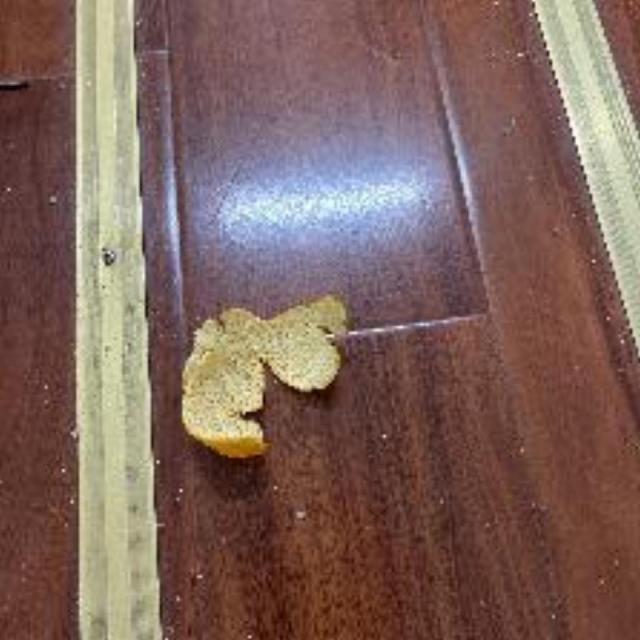orange peel: (178, 295, 358, 460)
